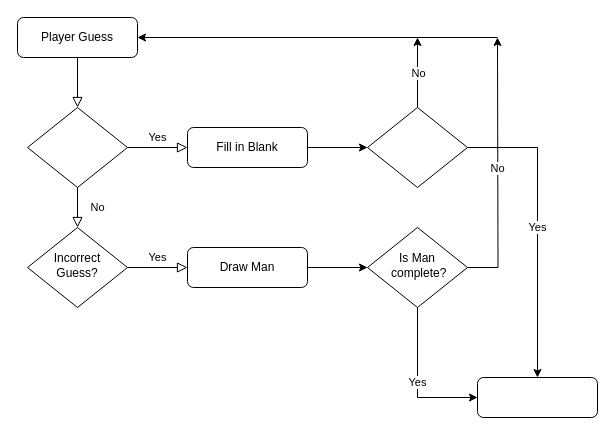
This 615x435 diagram has some shape labels left out. Each missing label, with the centre of its shape:
Correct Guess?: point (77, 147)
Game End: point (537, 397)
Is word complete?: point (417, 147)
